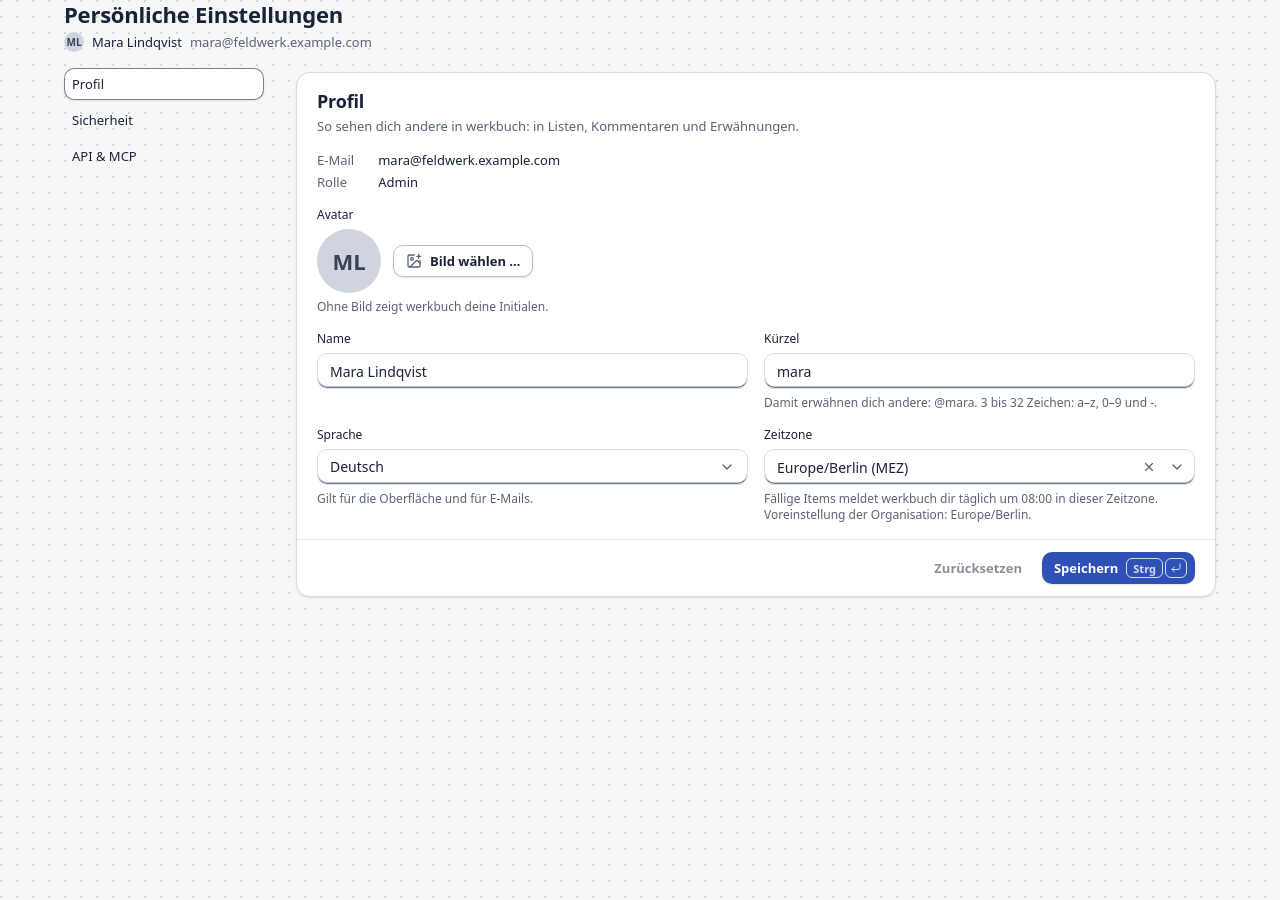
Test: Profile › asks before an edited profile is left
Type " B" into the field labelled "Name".
click(532, 371); type(" B")  # box [317,353,748,389]
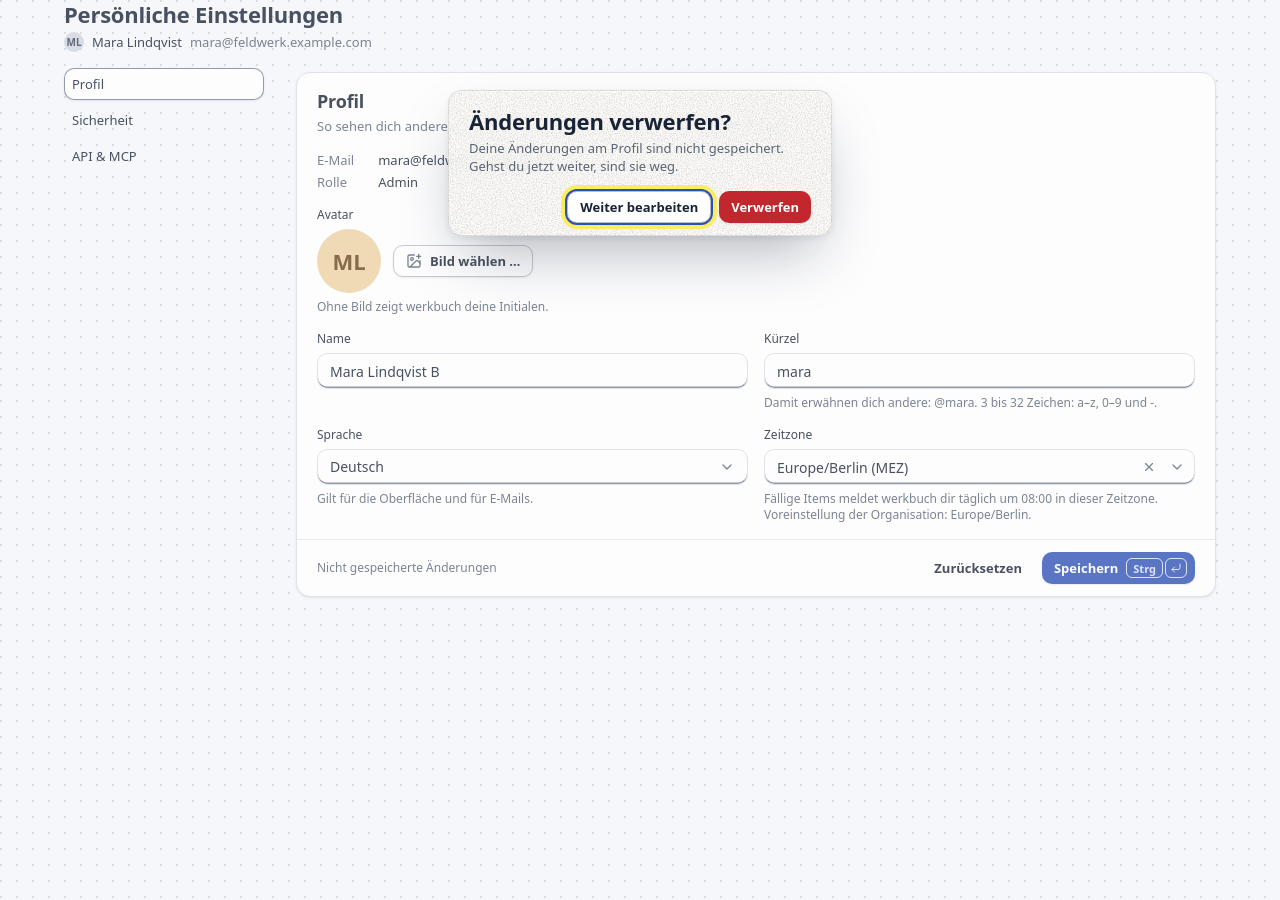
expect the dialog "Änderungen verwerfen?" is shown: met, box [448,90,832,236]
expect the text "Deine Änderungen am Profil sind nicht gespeichert" is shown: met, box [469,139,784,175]
Click the button "Weiter bearbeiten".
click(639, 207)  # box [567,191,711,223]
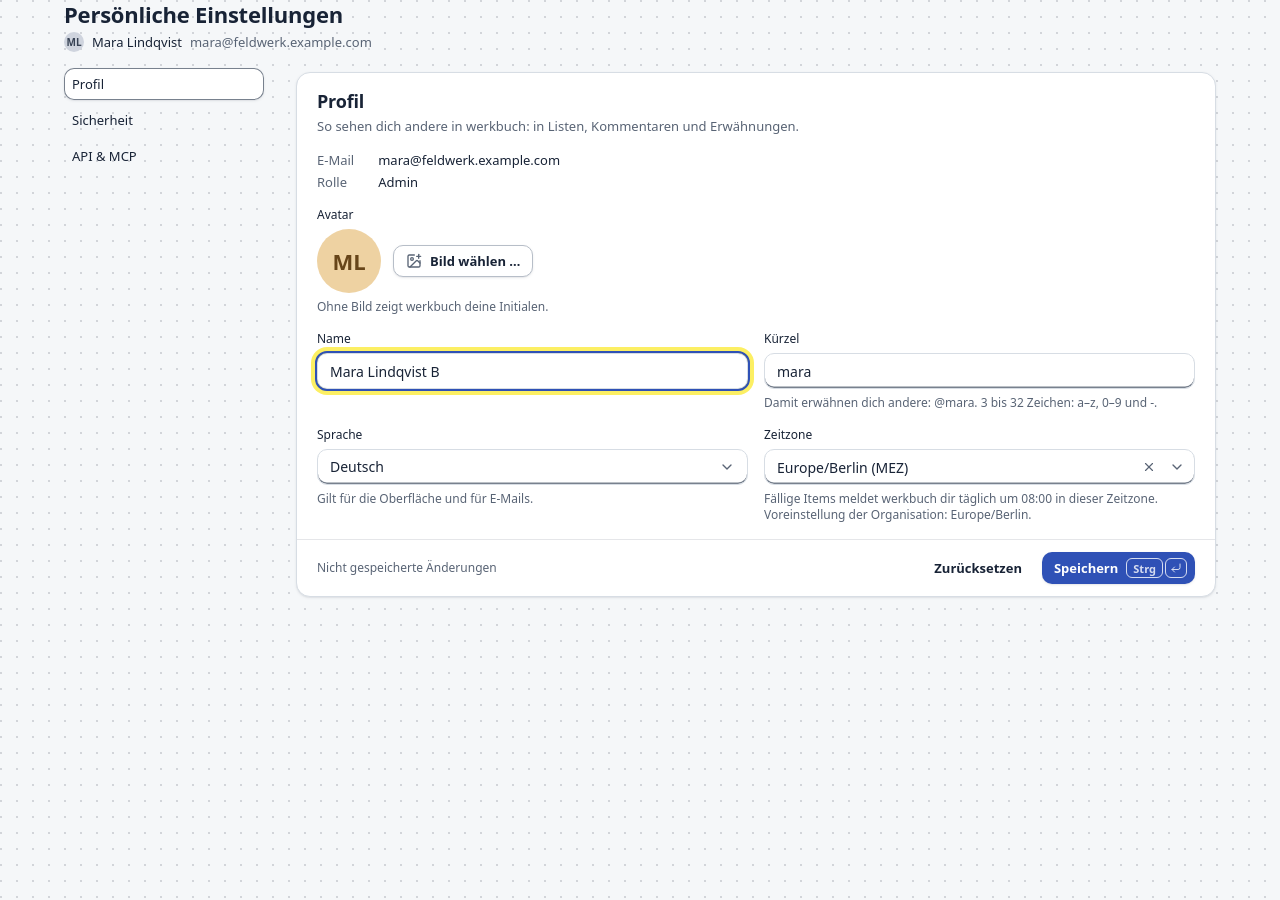
expect the dialog is gone: met
